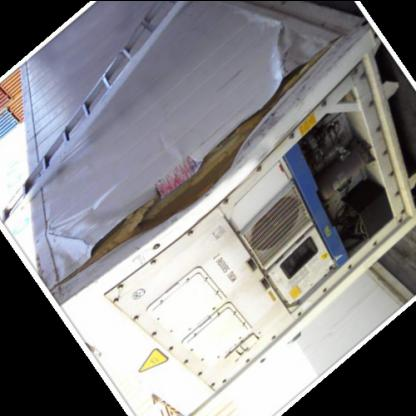Damage: (76, 40, 364, 266)
